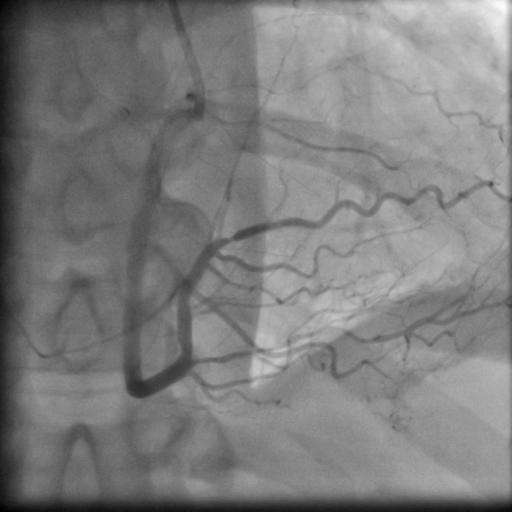Stenosis: (216, 229, 243, 248)
